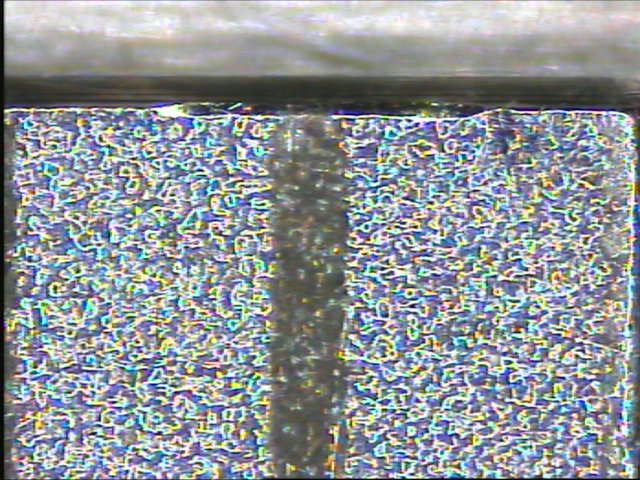line: (264, 117, 349, 469)
